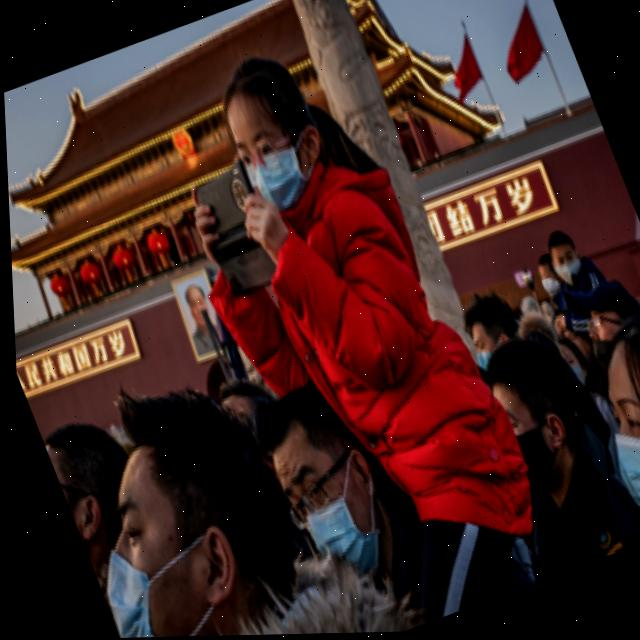Mask: (79, 504, 253, 639), (290, 487, 386, 594), (233, 125, 337, 216), (497, 425, 567, 494), (605, 421, 640, 536), (546, 253, 590, 293)
